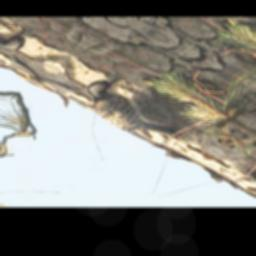Woodpecker: (66, 70, 202, 149)
